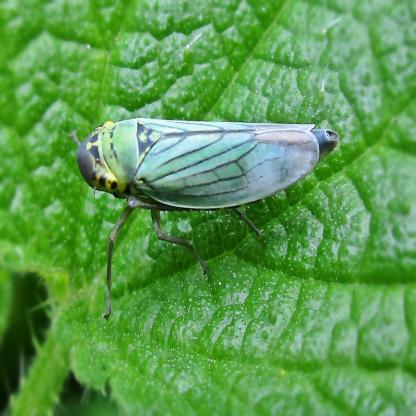Green-Leafhopper: (72, 104, 340, 294)
